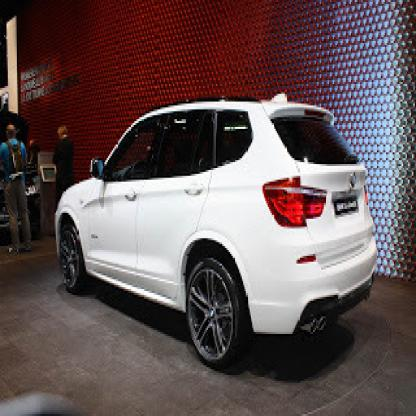Vehicle: (55, 92, 380, 375)
